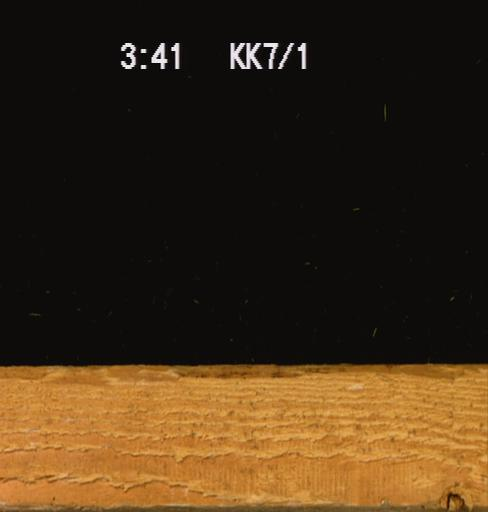edge_knot: (441, 489, 471, 511)
wave: (0, 361, 486, 379)
